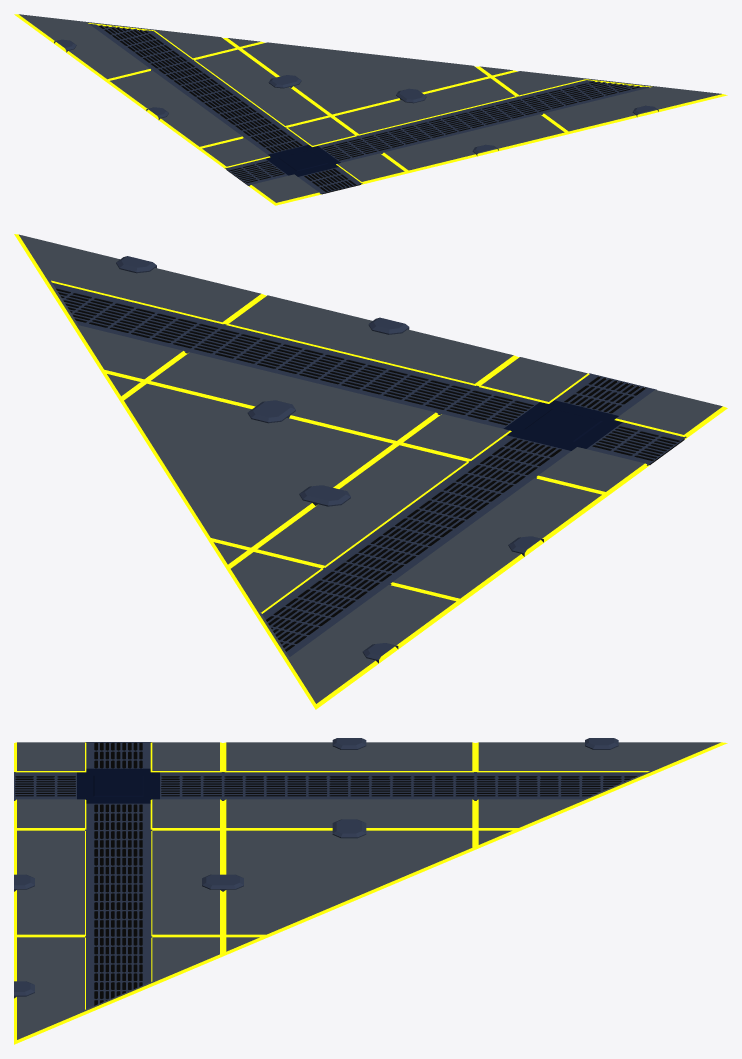
Rendered from SM_GroundTile_Corner.fbx.
3 views of the same model, one above another, from view 1: azimuth 30°, elevation 25°; view 2: azimuth 150°, elevation 25°; view 3: azimuth 270°, elevation 25° (orthographic). The views are drawn at different scales.
Visible parts, largest first — view 1: Plane.012; view 2: Plane.012; view 3: Plane.012.
Part boxes in pixels (left/top/right/bottom): Plane.012: left=14, top=14, right=727, bottom=205; Plane.012: left=14, top=234, right=727, bottom=709; Plane.012: left=14, top=738, right=727, bottom=1044.
Bounding box in the file's own units: 16.97 × 16.97 × 0.1308.
